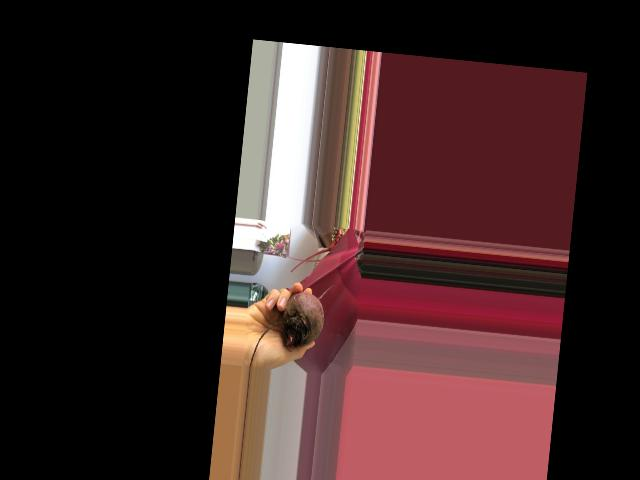beet: (249, 276, 334, 373)
